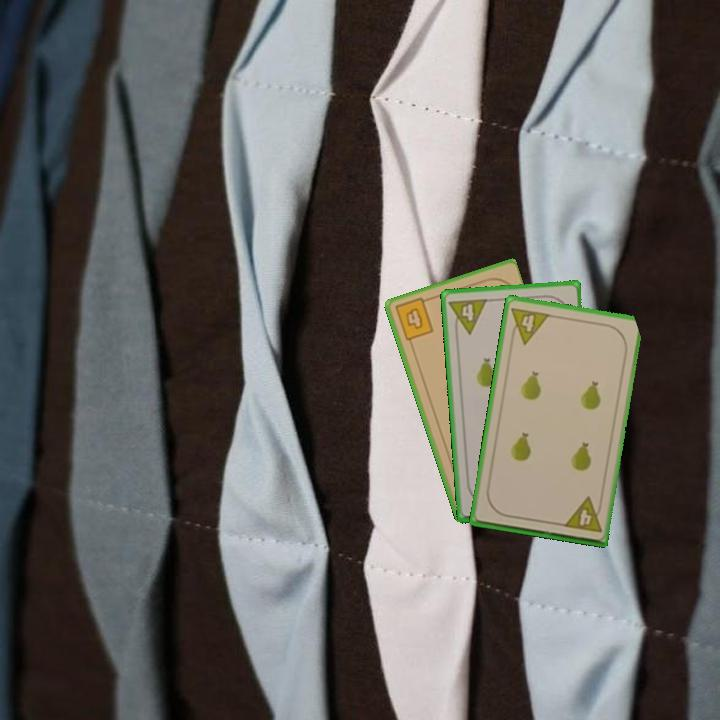4b: (391, 294, 436, 344)
4p: (506, 303, 552, 347), (446, 295, 490, 338), (560, 494, 605, 535)
